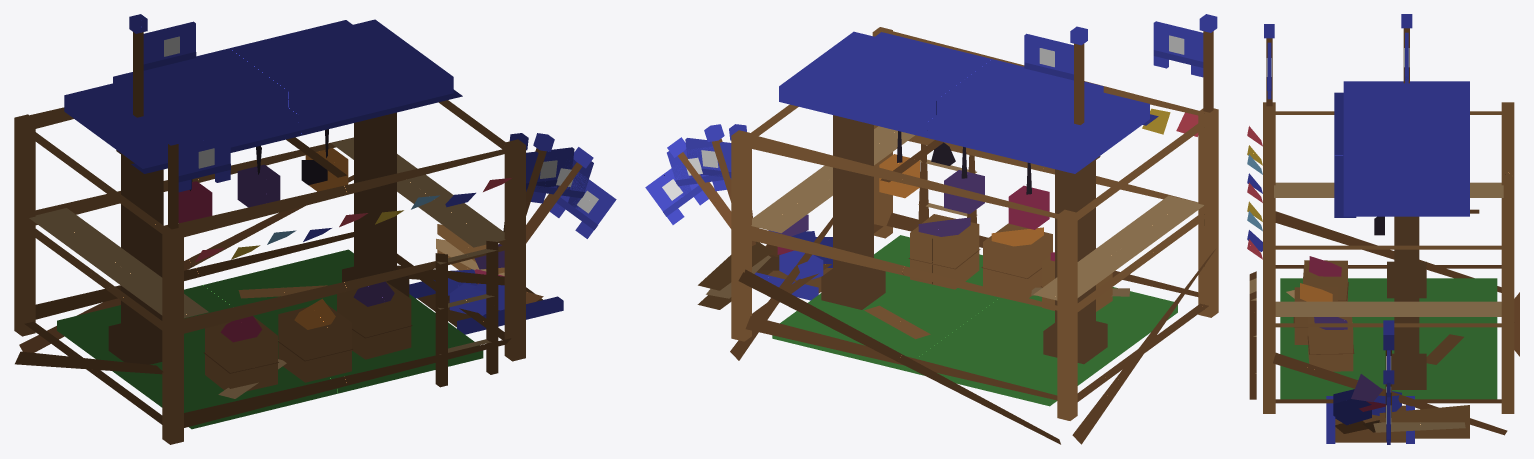
File: bat-producer_lod1.glb
3 views of the same model, side by side, from view 1: azimuth 30°, elevation 25°; view 2: azimuth 150°, elevation 25°; view 3: azimuth 270°, elevation 25° (orthographic). The views are drawn at different scales.
Visible parts, largest first — view 1: scaffold-mesh, built-mesh, dismantle-75-mesh, dismantle-25-mesh, dismantle-50-mesh, banner, scaffold-banner, dismantle-25-banner, dismantle-75-banner, flag-pole, scaffold-flag-pole, dismantle-50-banner (+2 smaller); view 2: scaffold-mesh, built-mesh, dismantle-75-mesh, dismantle-50-mesh, dismantle-25-mesh, scaffold-banner, banner, dismantle-25-banner, dismantle-50-banner, scaffold-flag-pole, dismantle-75-banner, flag-pole (+2 smaller); view 3: scaffold-mesh, built-mesh, dismantle-75-mesh, dismantle-25-mesh, dismantle-50-mesh, scaffold-flag-pole, flag-pole, scaffold-banner, banner.
Boxes of the visible parts, bbox=[...] form: scaffold-mesh: bbox=[14, 100, 525, 444]; built-mesh: bbox=[64, 19, 462, 390]; dismantle-75-mesh: bbox=[133, 121, 563, 391]; dismantle-25-mesh: bbox=[133, 244, 563, 388]; dismantle-50-mesh: bbox=[109, 191, 563, 398]; banner: bbox=[143, 21, 196, 80]; scaffold-banner: bbox=[178, 133, 230, 192]; dismantle-25-banner: bbox=[550, 172, 616, 238]; dismantle-75-banner: bbox=[526, 147, 574, 191]; flag-pole: bbox=[129, 14, 147, 117]; scaffold-flag-pole: bbox=[164, 126, 182, 229]; dismantle-50-banner: bbox=[530, 159, 593, 208]; scaffold-mesh: bbox=[697, 27, 1218, 444]; built-mesh: bbox=[779, 31, 1158, 364]; dismantle-75-mesh: bbox=[754, 125, 1080, 335]; dismantle-50-mesh: bbox=[774, 193, 1129, 340]; dismantle-25-mesh: bbox=[758, 214, 1080, 339]; scaffold-banner: bbox=[1153, 21, 1203, 77]; banner: bbox=[1024, 33, 1073, 89]; dismantle-25-banner: bbox=[645, 163, 708, 224]; dismantle-50-banner: bbox=[667, 146, 726, 195]; scaffold-flag-pole: bbox=[1199, 14, 1217, 112]; dismantle-75-banner: bbox=[685, 138, 731, 179]; flag-pole: bbox=[1070, 26, 1087, 125]; scaffold-mesh: bbox=[1247, 102, 1519, 438]; built-mesh: bbox=[1320, 81, 1479, 367]; dismantle-75-mesh: bbox=[1295, 265, 1426, 443]; dismantle-25-mesh: bbox=[1326, 284, 1463, 442]; dismantle-50-mesh: bbox=[1286, 261, 1426, 443]; scaffold-flag-pole: bbox=[1264, 24, 1274, 106]; flag-pole: bbox=[1401, 14, 1412, 83]; scaffold-banner: bbox=[1266, 42, 1271, 99]; banner: bbox=[1404, 32, 1409, 89].
Size of the model in its own units: 2.72 by 1.85 by 1.51.
